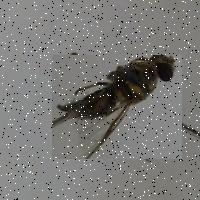Oriental-fruit-fly: (52, 55, 182, 160)
